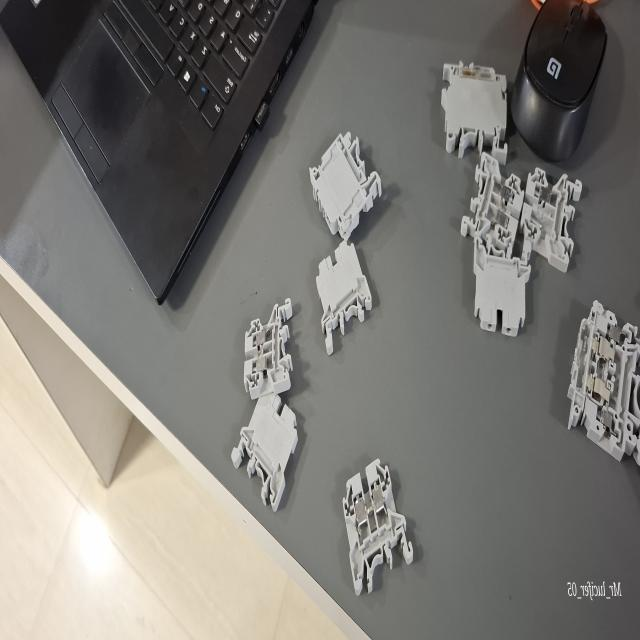Inverted: (310, 215, 376, 374), (232, 379, 298, 516), (468, 230, 534, 340)
Pass: (331, 454, 428, 606), (232, 264, 298, 432), (459, 147, 525, 260)
Reject: (518, 156, 594, 276)
